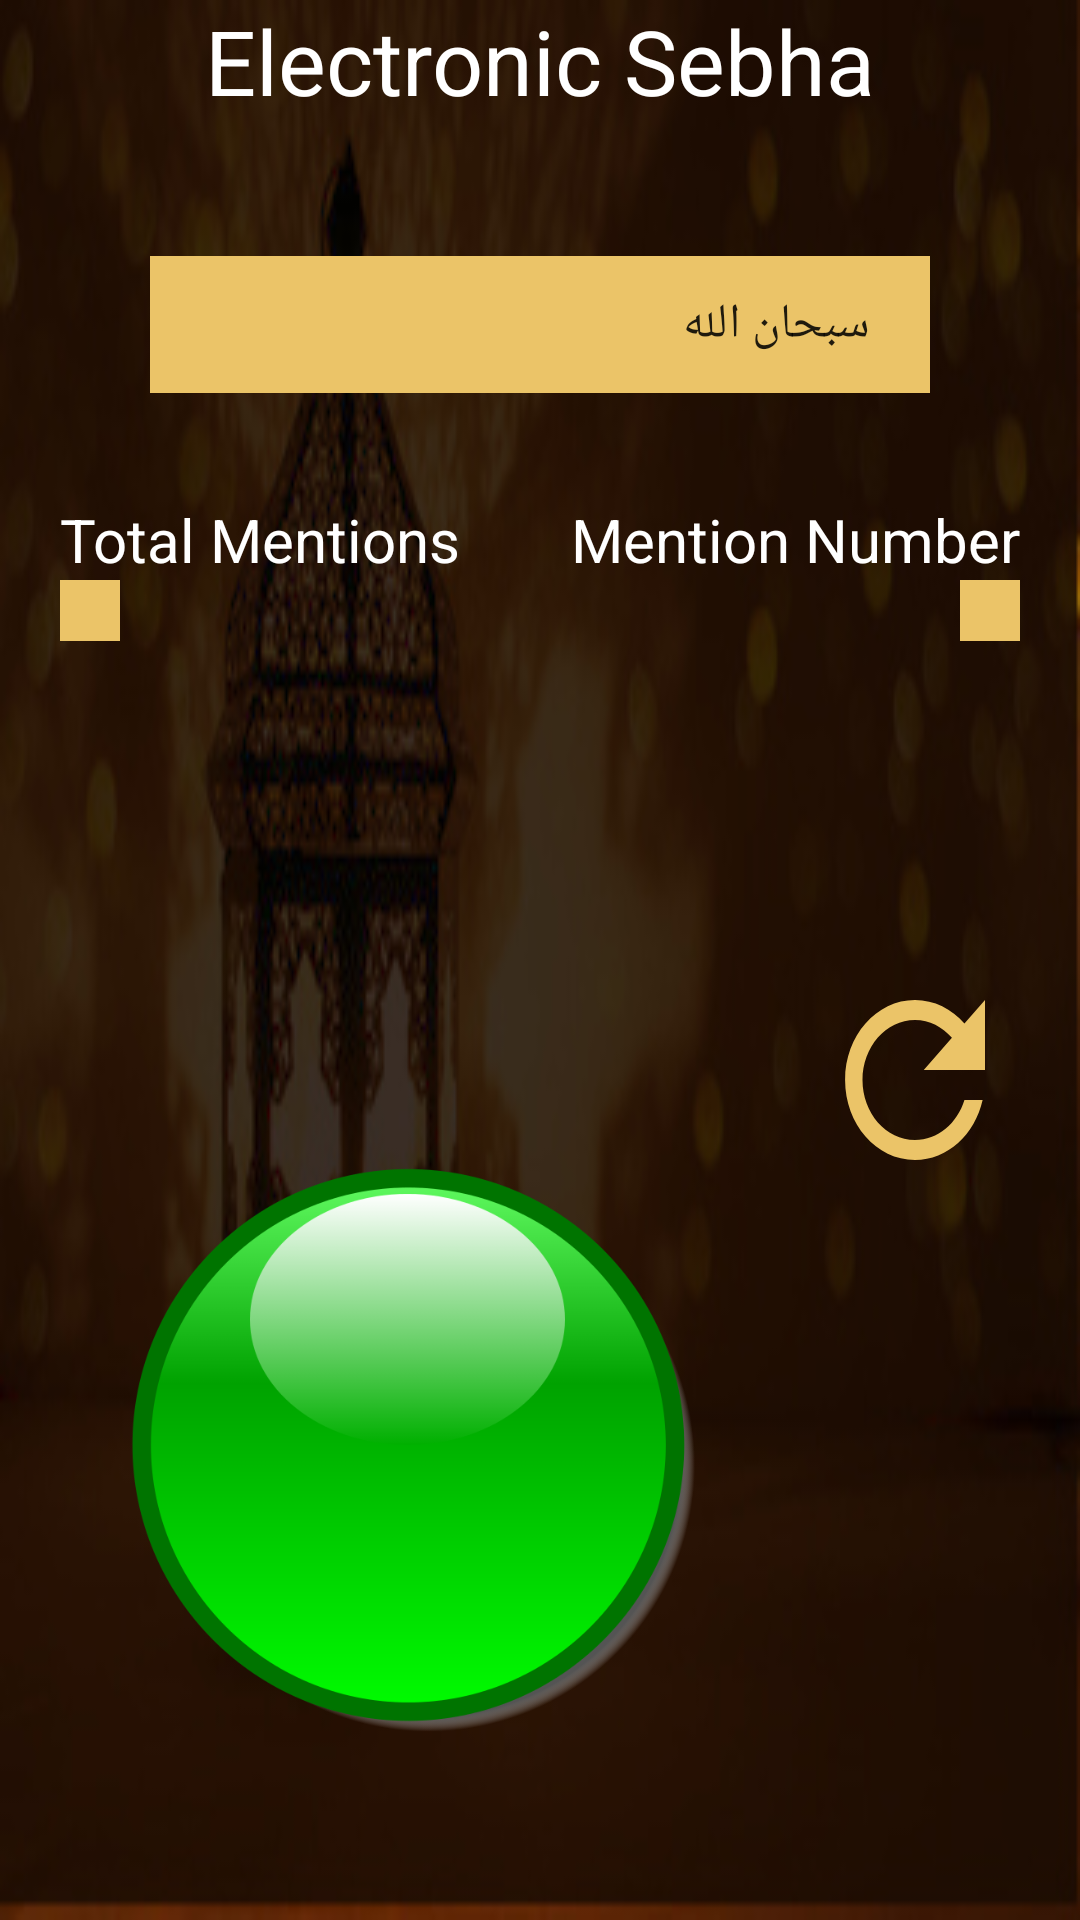

Where icons sit on this 1080 x 1920 app screen, as (x1, y1, x2, y2):
refresh: (845, 1000, 985, 1160)
